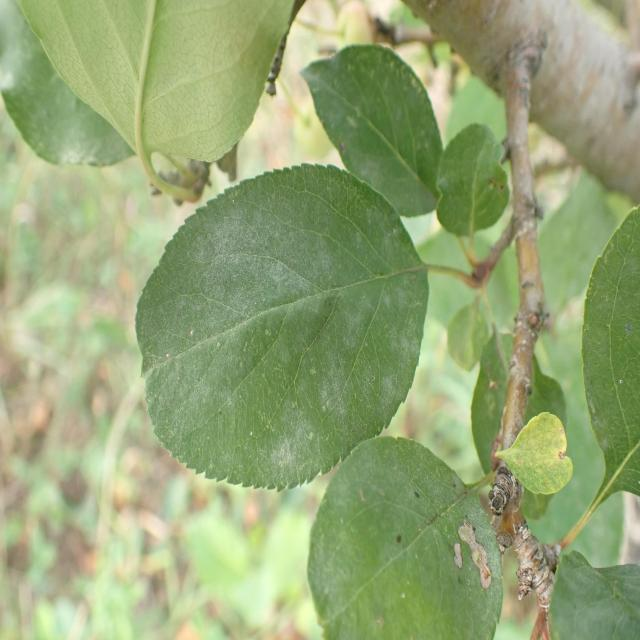Powdery_mildew: (117, 149, 427, 489), (307, 437, 517, 640)
